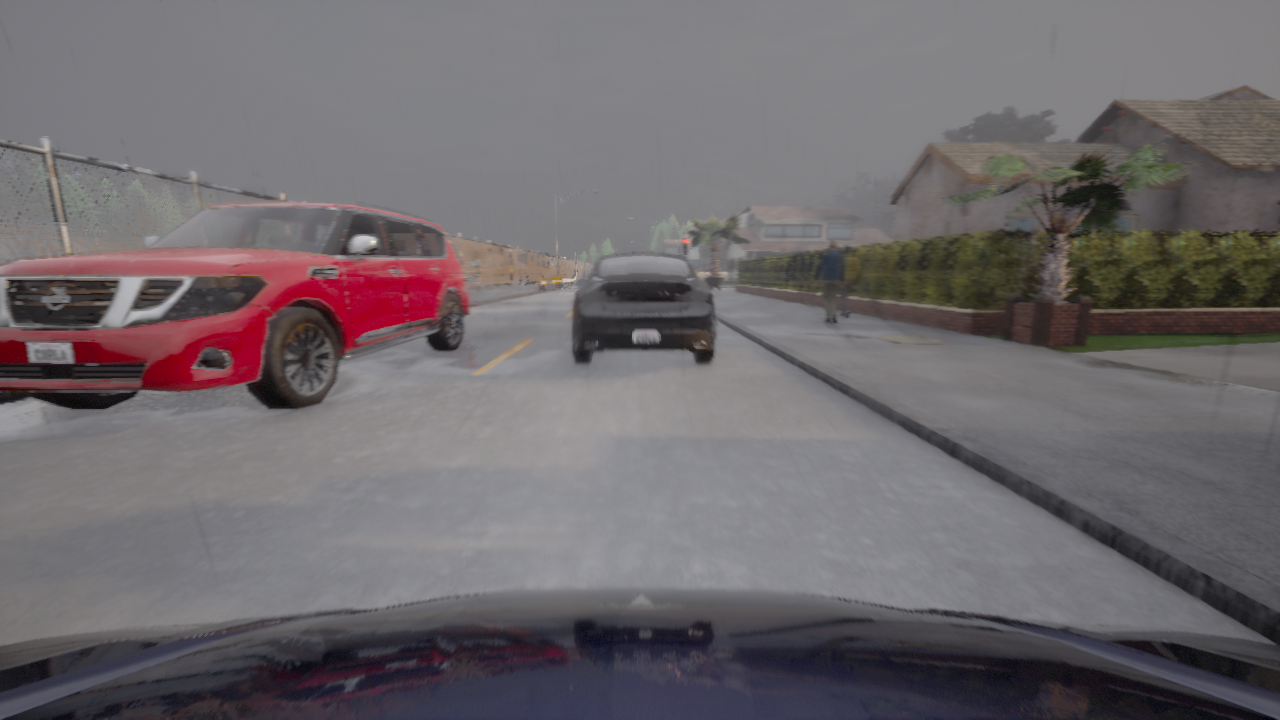cyclist: (0, 588, 1279, 719), (0, 202, 468, 410), (571, 252, 716, 364)
pedestrian: (813, 241, 845, 323), (838, 245, 859, 318)
